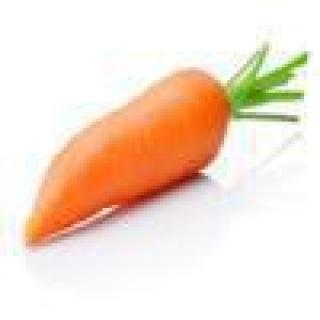Wortel: (14, 39, 315, 273)
